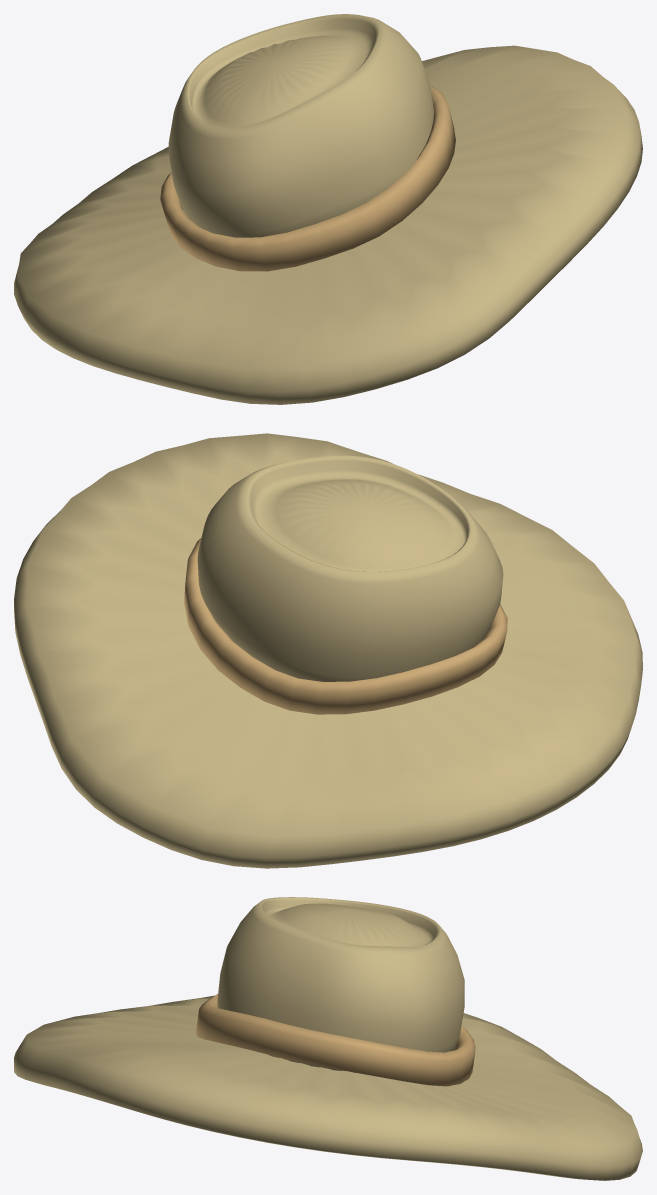
The model's file is Chapeau de paille.fbx.
3 views of the same model, one above another, from view 1: azimuth 30°, elevation 25°; view 2: azimuth 150°, elevation 25°; view 3: azimuth 270°, elevation 25° (orthographic). The views are drawn at different scales.
Parts seen in each view (by area): view 1: Cylinder; view 2: Cylinder; view 3: Cylinder.
Part boxes in pixels (x1,y1,x2,y2): Cylinder: (14, 14, 642, 404); Cylinder: (14, 433, 642, 868); Cylinder: (14, 897, 642, 1180).
Size of the model in its own units: 60.29 by 28.09 by 63.36.
